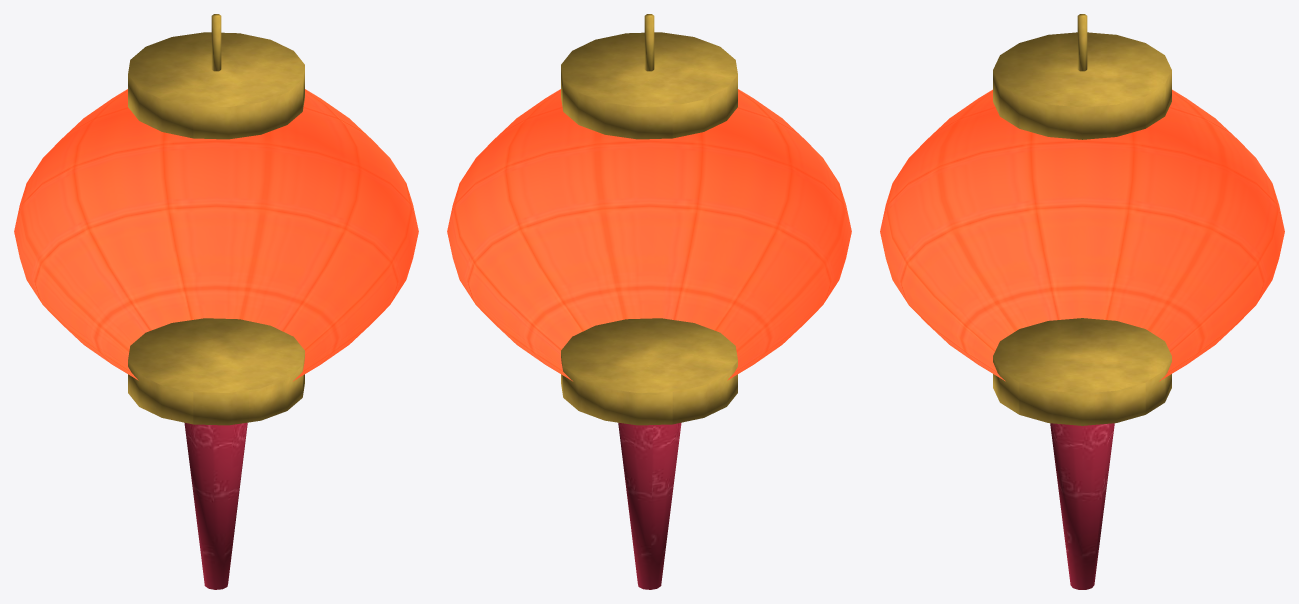
The model's file is red_lantern.glb.
3 views of the same model, side by side, from view 1: azimuth 30°, elevation 25°; view 2: azimuth 150°, elevation 25°; view 3: azimuth 270°, elevation 25° (orthographic).
Parts seen in each view (by area): view 1: LanternPaper, LanternCaps, LanternTassel; view 2: LanternPaper, LanternCaps, LanternTassel; view 3: LanternPaper, LanternCaps, LanternTassel.
Part boxes in pixels (x1,y1,x2,y2): LanternPaper: [14, 89, 418, 381]; LanternCaps: [128, 14, 304, 425]; LanternTassel: [184, 422, 247, 589]; LanternPaper: [447, 89, 851, 381]; LanternCaps: [561, 14, 737, 425]; LanternTassel: [618, 422, 681, 589]; LanternPaper: [880, 89, 1284, 381]; LanternCaps: [993, 14, 1171, 425]; LanternTassel: [1050, 423, 1114, 589].
Bounding box in the file's own units: 0.68 × 1.05 × 0.68.
Materials: 3 (3 with a texture image).
